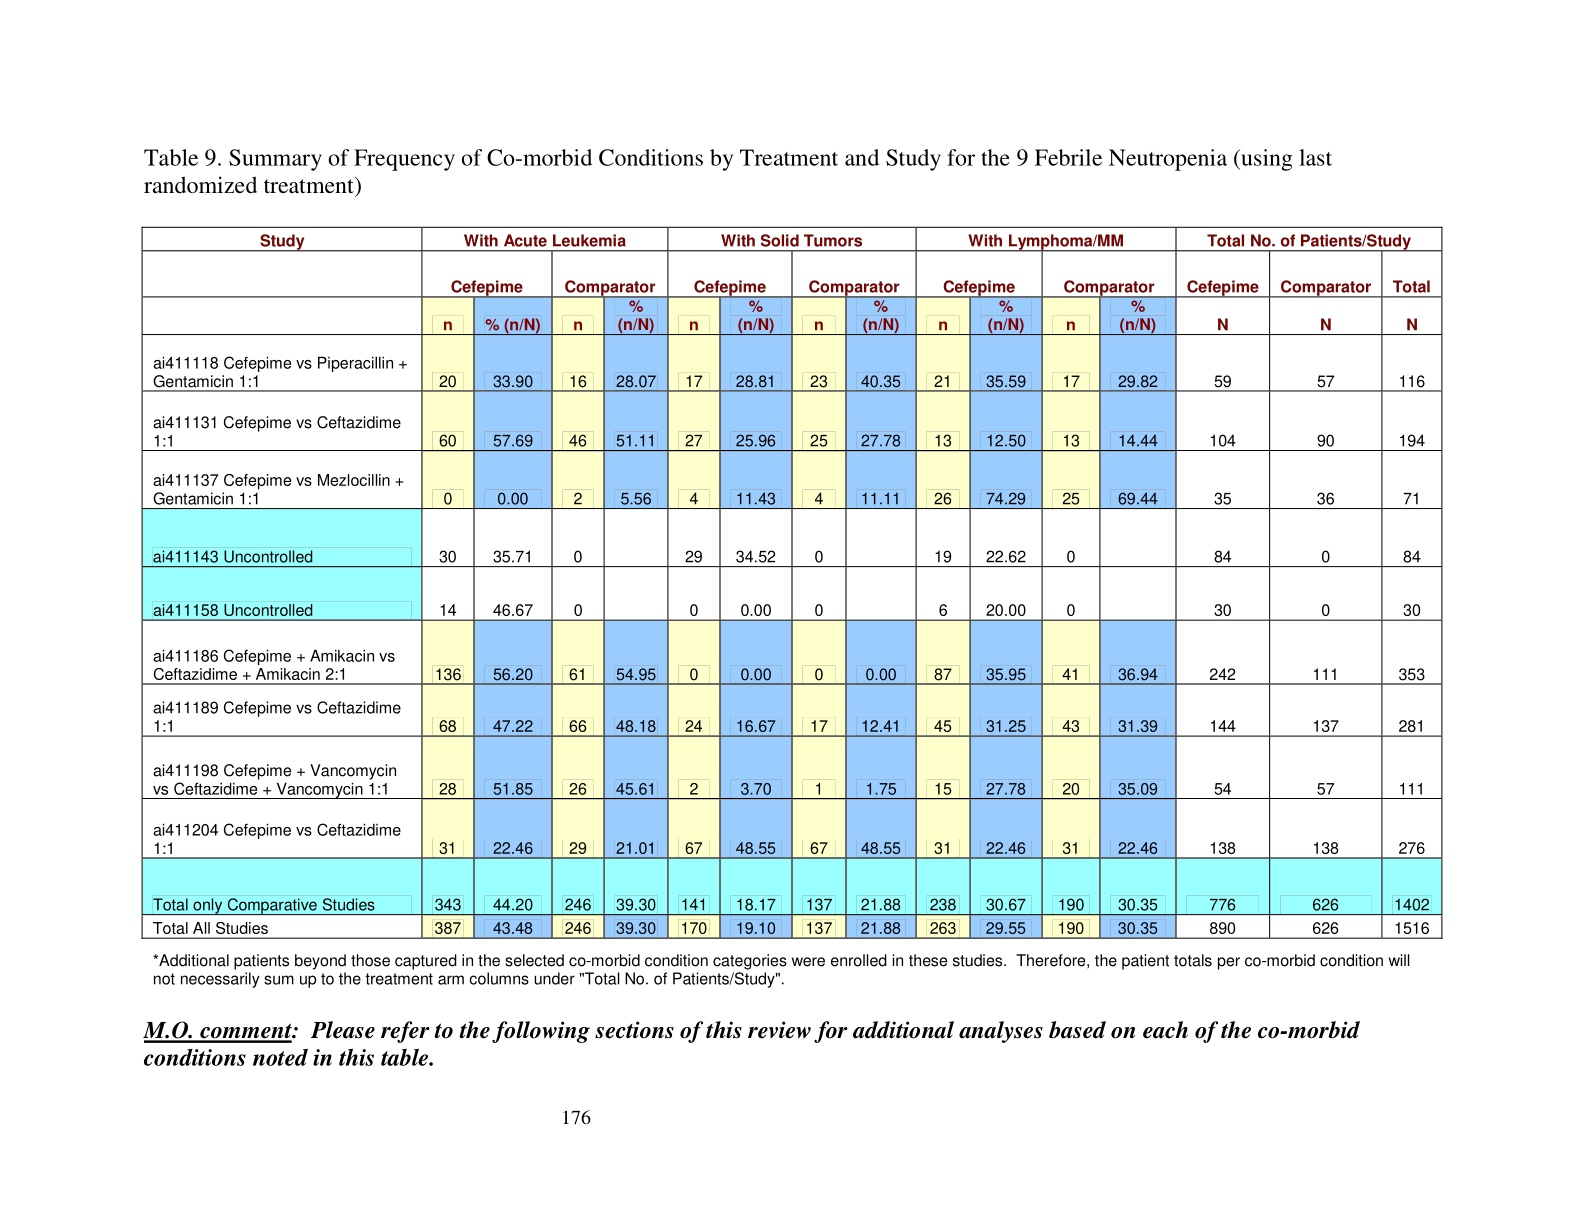merged_cells: (141, 225, 1443, 939)
